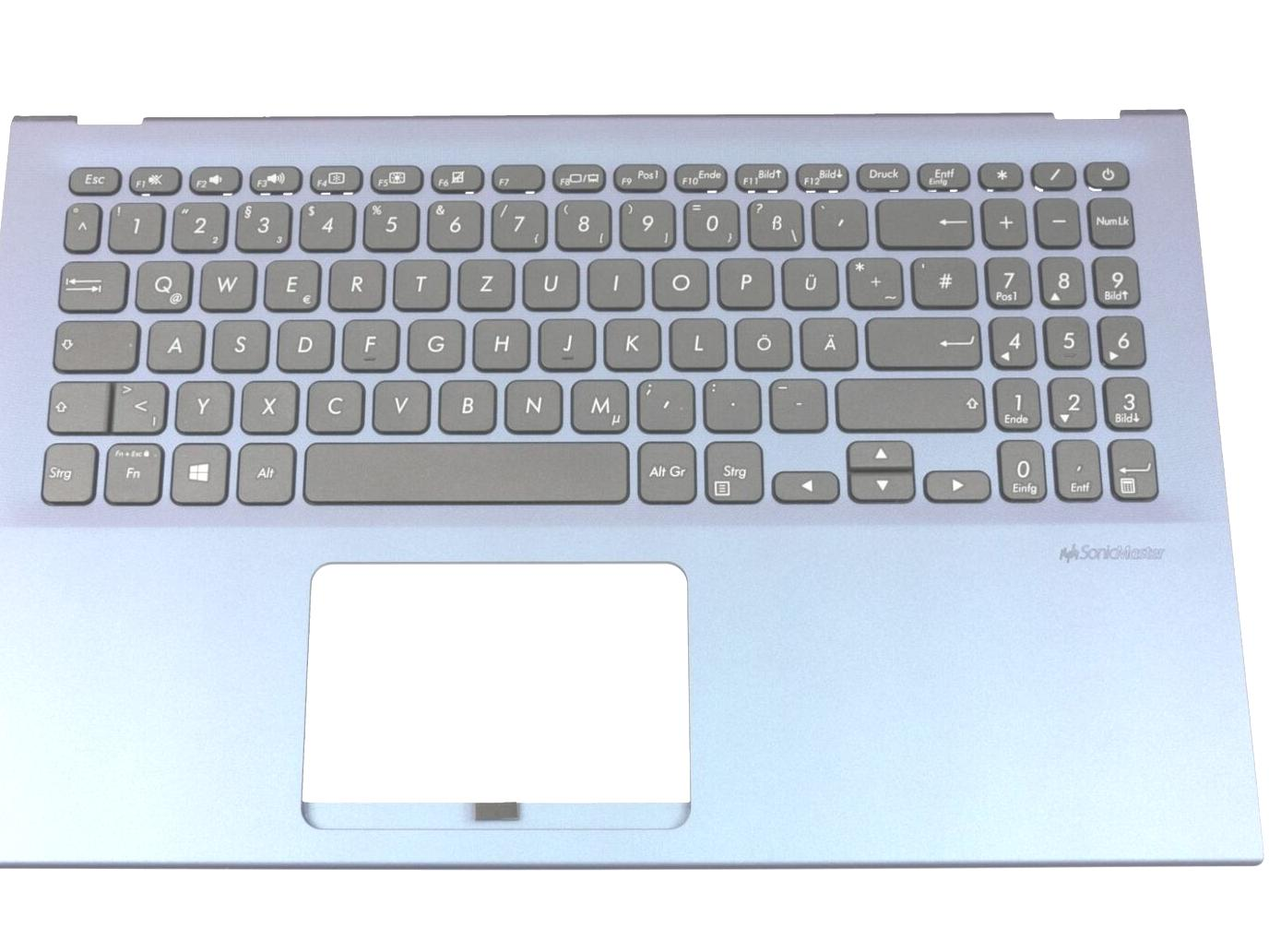0: (682, 196, 739, 247)
1: (107, 199, 163, 249)
2: (170, 198, 226, 249)
3: (234, 198, 290, 249)
4: (298, 199, 354, 248)
5: (362, 198, 418, 247)
6: (426, 197, 481, 248)
7: (490, 197, 546, 248)
8: (553, 196, 611, 248)
9: (618, 196, 674, 247)
a: (145, 316, 203, 370)
accent: (811, 196, 866, 246)
ae: (799, 314, 856, 368)
alt-left: (236, 440, 295, 504)
altgr-right: (636, 439, 695, 502)
b: (436, 377, 496, 431)
c: (305, 376, 363, 432)
caret: (63, 200, 99, 249)
comma: (635, 376, 694, 430)
d: (276, 315, 333, 370)
del: (874, 196, 972, 247)
e: (263, 257, 319, 308)
enter: (864, 314, 981, 368)
f: (341, 315, 397, 369)
g: (405, 315, 463, 370)
h: (471, 315, 528, 369)
hash: (910, 254, 978, 307)
i: (587, 256, 643, 307)
j: (537, 315, 594, 368)
k: (602, 314, 659, 368)
keyboard: (24, 141, 1180, 520)
l: (668, 314, 725, 367)
less: (112, 378, 167, 432)
m: (569, 376, 629, 432)
minus: (767, 377, 827, 429)
n: (503, 376, 563, 431)
o: (651, 256, 707, 307)
oe: (734, 315, 791, 367)
p: (717, 256, 772, 306)
plus: (845, 255, 901, 307)
point: (702, 377, 761, 430)
q: (134, 257, 191, 309)
r: (327, 257, 384, 308)
s: (210, 316, 267, 370)
shift-left: (45, 379, 108, 432)
shift-lock: (50, 317, 138, 371)
shift-right: (834, 375, 983, 431)
space: (302, 439, 629, 503)
ss: (747, 196, 802, 246)
strg-left: (38, 441, 96, 503)
strg-right: (703, 438, 764, 502)
t: (392, 256, 448, 307)
tab: (56, 257, 127, 310)
u: (521, 256, 578, 308)
ue: (780, 256, 836, 306)
v: (371, 376, 430, 432)
w: (197, 256, 255, 309)
x: (239, 377, 298, 432)
y: (174, 378, 231, 432)
z: (457, 256, 514, 308)
